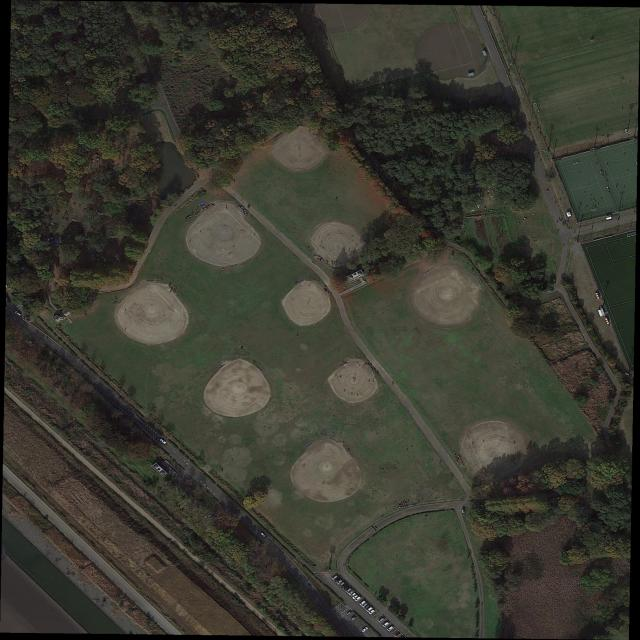small-vehicle: (361, 627, 369, 633), (344, 585, 351, 591), (352, 594, 359, 600), (355, 596, 362, 602), (386, 626, 394, 631), (382, 622, 390, 627), (378, 618, 385, 623), (332, 575, 339, 580), (341, 583, 348, 588), (346, 588, 353, 593), (348, 590, 355, 595), (359, 601, 366, 606), (362, 603, 369, 608), (364, 605, 371, 610), (366, 607, 373, 612), (346, 611, 352, 616), (160, 439, 166, 444), (351, 616, 357, 621), (369, 609, 375, 614), (339, 582, 345, 587), (335, 577, 341, 582), (351, 593, 357, 598), (15, 311, 20, 316), (337, 580, 343, 584), (262, 532, 266, 537)
